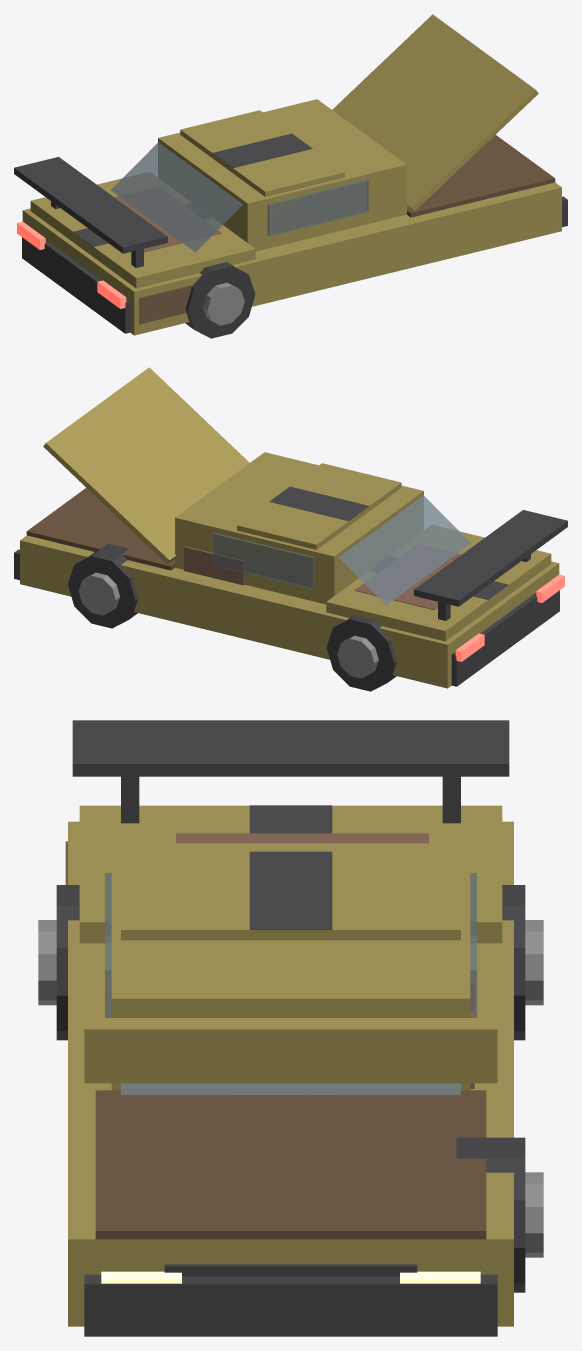
File: carro_esportivo.glb
3 views of the same model, one above another, from view 1: azimuth 30°, elevation 25°; view 2: azimuth 150°, elevation 25°; view 3: azimuth 270°, elevation 25° (orthographic). The views are drawn at different scales.
Parts seen in each view (by area): view 1: body, glass, decor_grim, wheels, lights_red; view 2: body, glass, wheels, decor_grim, lights_red; view 3: body, wheels, glass, decor_grim, lights_amber.
Boxes of the visible parts, x1,y1,x2,y2 form: body: [14, 14, 567, 335]; glass: [111, 142, 407, 252]; decor_grim: [114, 187, 221, 324]; wheels: [185, 262, 255, 338]; lights_red: [17, 221, 126, 308]; body: [14, 367, 567, 688]; glass: [174, 495, 470, 605]; wheels: [68, 543, 396, 691]; decor_grim: [184, 544, 461, 609]; lights_red: [455, 574, 564, 661]; body: [68, 720, 513, 1336]; wheels: [38, 885, 543, 1292]; glass: [105, 873, 476, 1094]; decor_grim: [65, 833, 474, 1088]; lights_amber: [101, 1271, 480, 1283].
Bounding box in the file's own units: 4.5 × 1.56 × 2.2.
